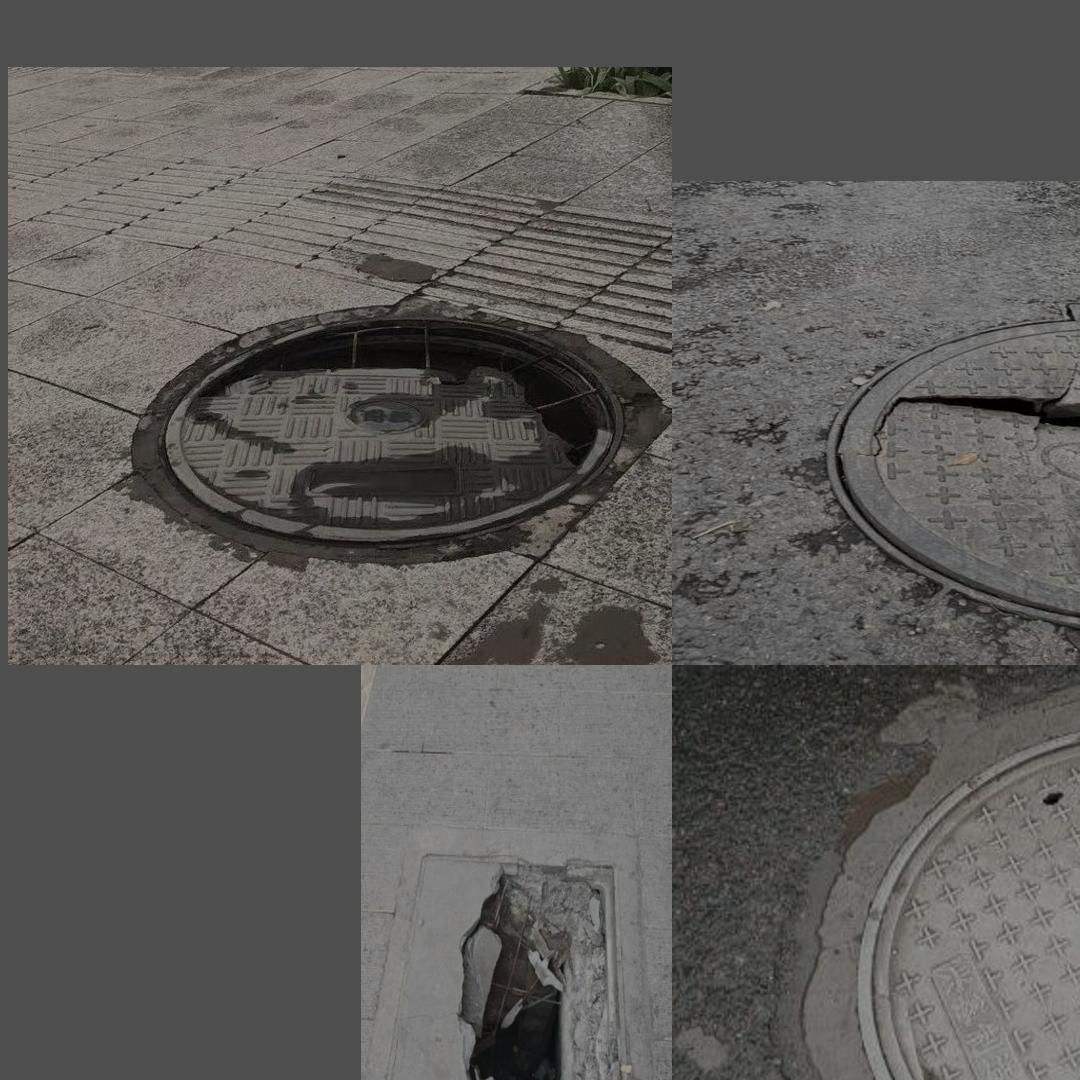broke: (773, 704, 1080, 1080), (159, 312, 626, 548), (815, 311, 1080, 633), (375, 836, 640, 1080)
